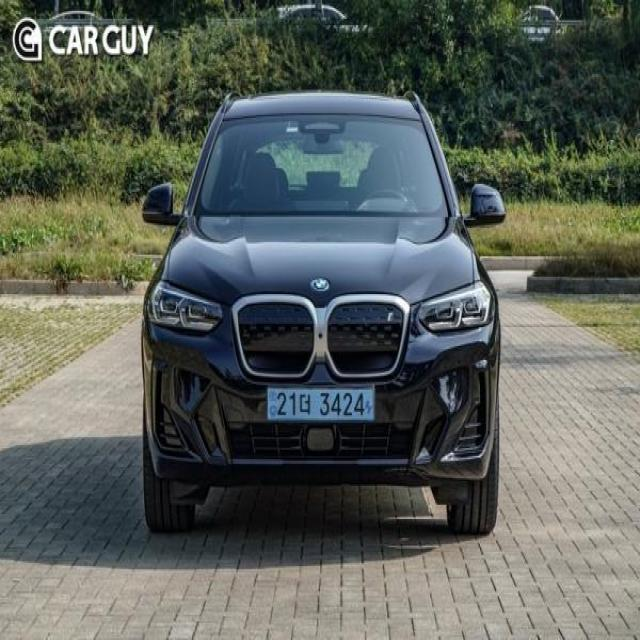EV_plate: (268, 384, 377, 428)
car: (138, 86, 510, 545)
